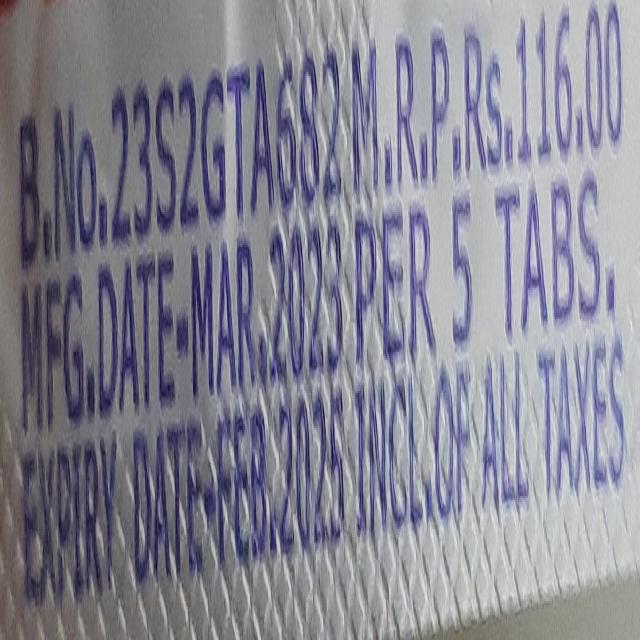sentence: (19, 336, 625, 608), (20, 171, 614, 432), (19, 41, 341, 269), (350, 0, 631, 197)
